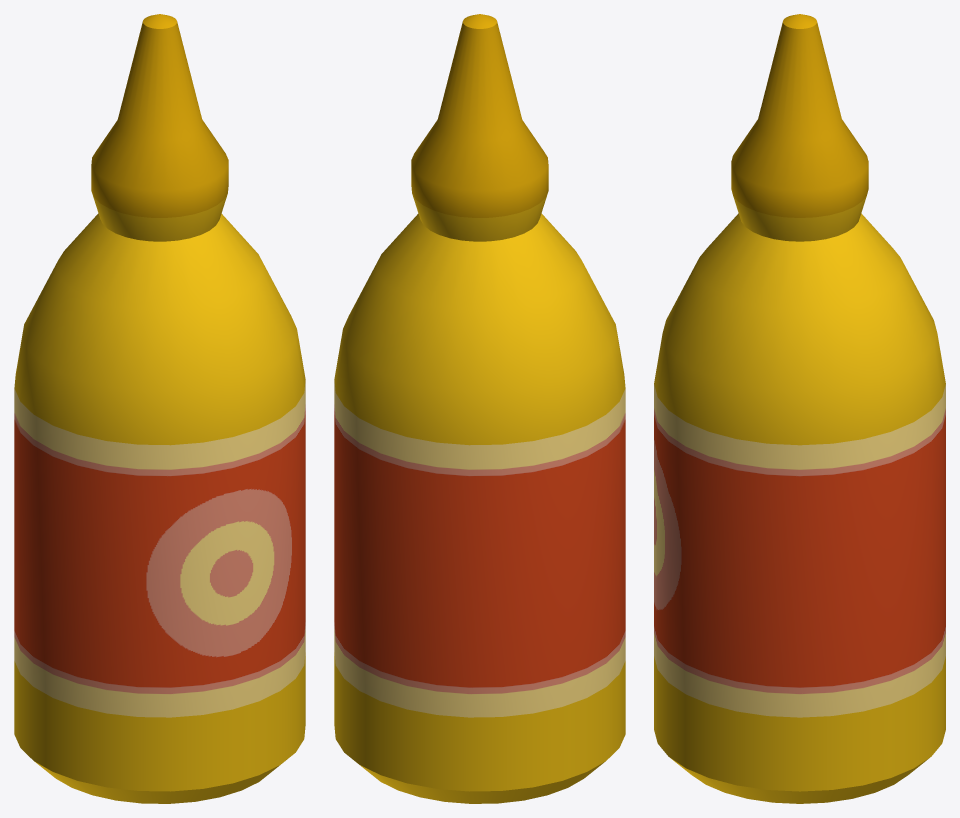
File: Mustard.fbx
The picture shows the model from 3 angles, left to right: view 1: azimuth 30°, elevation 25°; view 2: azimuth 150°, elevation 25°; view 3: azimuth 270°, elevation 25°; orthographic projection.
Parts seen in each view (by area): view 1: Mustard; view 2: Mustard; view 3: Mustard.
Part boxes in pixels (x1=…): Mustard: x1=14, y1=14, x2=305, y2=803; Mustard: x1=334, y1=14, x2=625, y2=803; Mustard: x1=654, y1=14, x2=945, y2=803.
Size of the model in its own units: 0.068 by 0.19 by 0.068.
3 materials, 1 textured.
